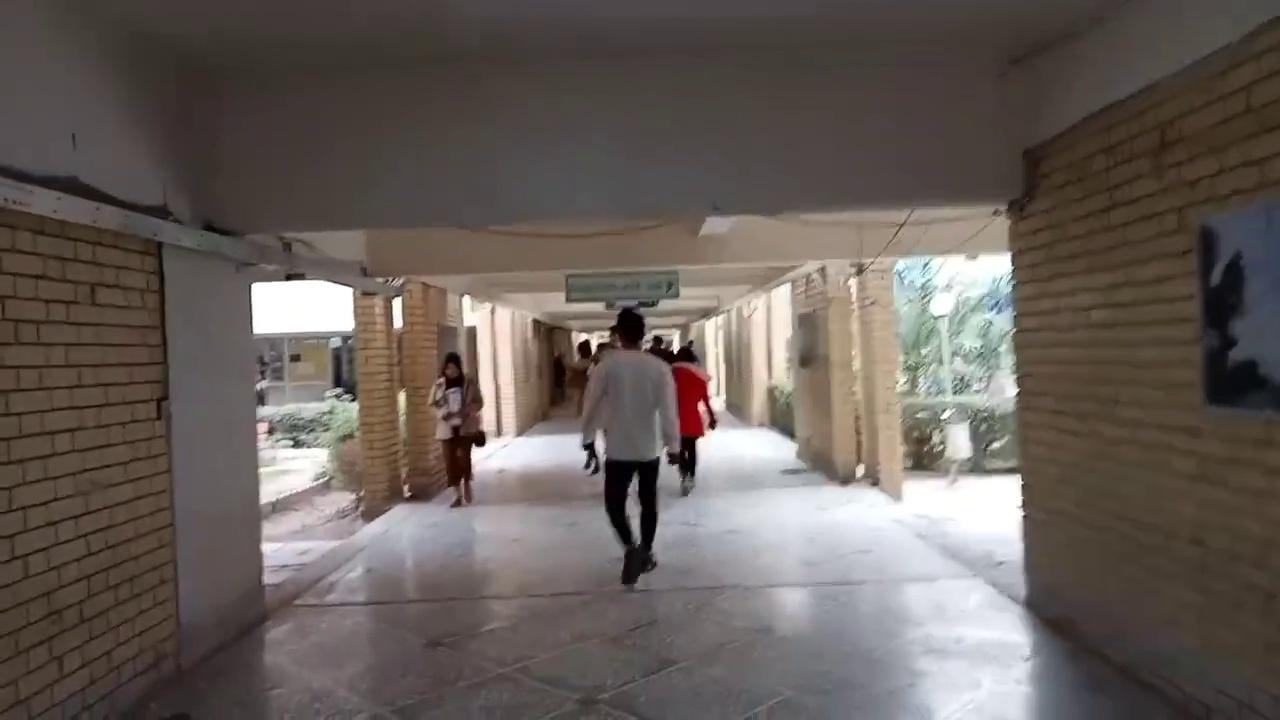person: (579, 307, 681, 585), (426, 351, 484, 508), (668, 345, 717, 496), (552, 350, 566, 405)
tree: (892, 256, 1016, 476), (255, 387, 360, 513), (960, 266, 1016, 471)
